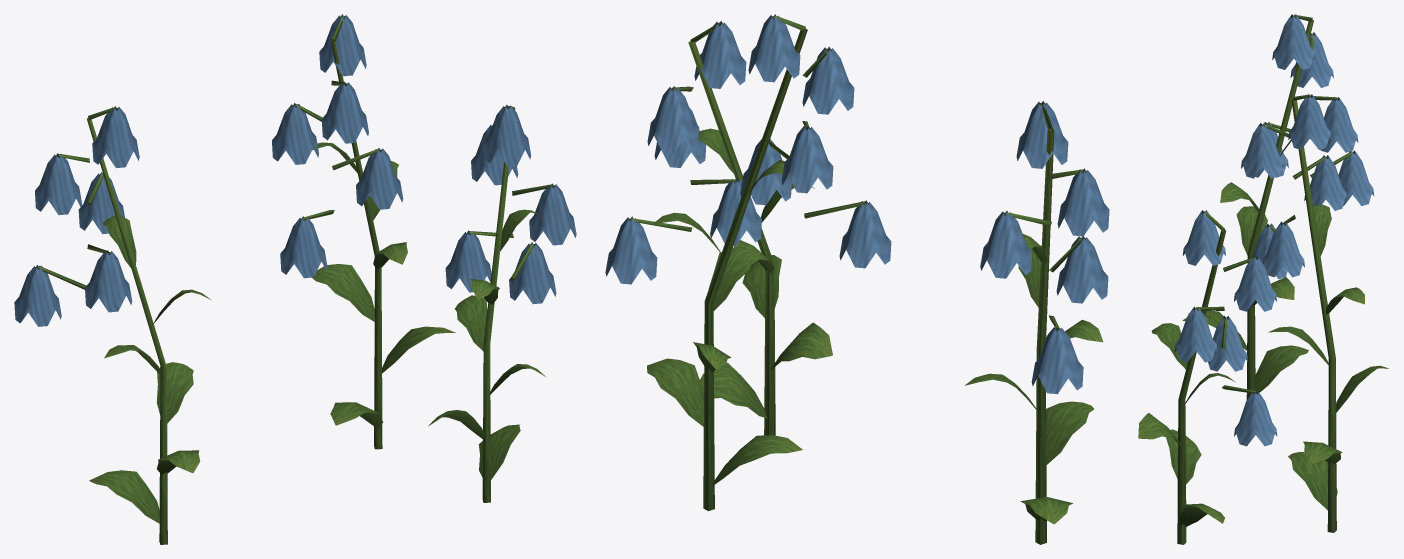
Rendered from Harebell_A.fbx.
3 renders of one model, left to right at view 1: azimuth 30°, elevation 25°; view 2: azimuth 150°, elevation 25°; view 3: azimuth 270°, elevation 25°, orthographic. The views are drawn at different scales.
Visible parts, largest first — view 1: Harebell_A_LOD0; view 2: Harebell_A_LOD0; view 3: Harebell_A_LOD0.
Part boxes in pixels (x1,y1,x2,y2): Harebell_A_LOD0: (14, 14, 576, 544); Harebell_A_LOD0: (605, 14, 1109, 544); Harebell_A_LOD0: (1138, 14, 1388, 544).
Size of what is drawn, in the model's own units: 28.16 by 25.17 by 13.81.
1 material, 1 textured.
